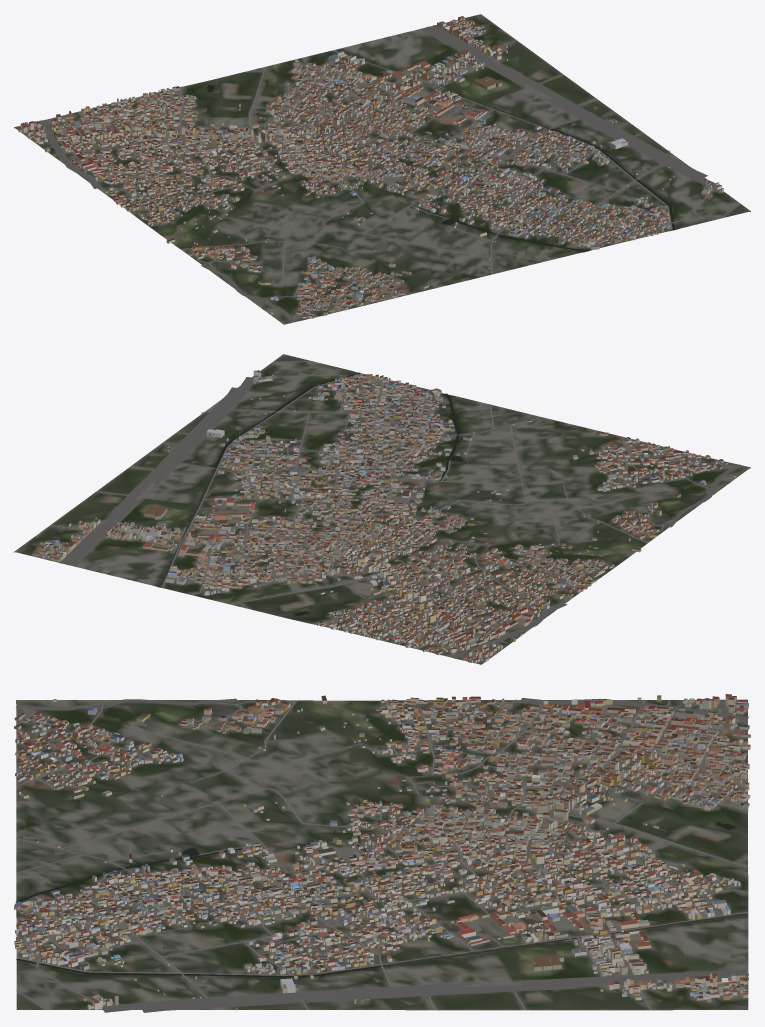
The picture shows the model from 3 angles, top to bottom: view 1: azimuth 30°, elevation 25°; view 2: azimuth 150°, elevation 25°; view 3: azimuth 270°, elevation 25°; orthographic projection. The views are drawn at different scales.
Parts seen in each view (by area): view 1: ground, buildings, roads, water; view 2: ground, buildings, roads, water; view 3: ground, buildings, roads, water.
Boxes of the visible parts, <box> form: ground: <box>14,14,750,324</box>; buildings: <box>18,16,723,318</box>; roads: <box>22,25,739,322</box>; water: <box>207,49,675,251</box>; ground: <box>14,354,750,664</box>; buildings: <box>32,370,736,662</box>; roads: <box>50,361,742,658</box>; water: <box>158,372,463,615</box>; ground: <box>16,699,748,1010</box>; buildings: <box>14,694,750,1010</box>; roads: <box>15,698,748,1012</box>; water: <box>15,822,748,977</box>.
Size of the model in its own units: 1425 by 30.26 by 1412.
